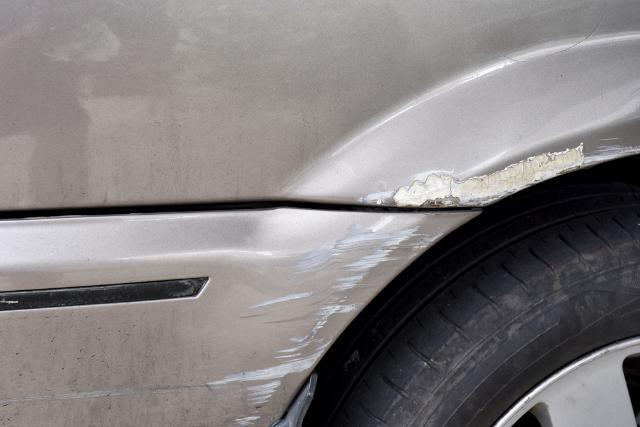scratch: (0, 224, 437, 427), (362, 136, 640, 206)
